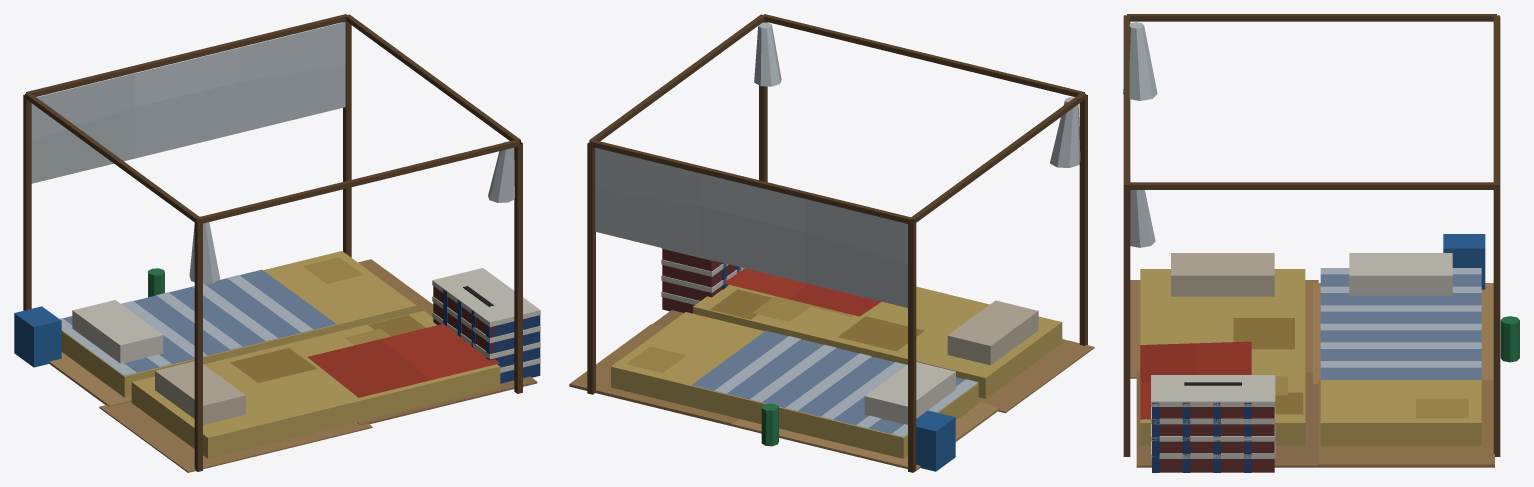
Rendered from ns_camp_bed.glb.
The picture shows the model from 3 angles, left to right: view 1: azimuth 30°, elevation 25°; view 2: azimuth 150°, elevation 25°; view 3: azimuth 270°, elevation 25°; orthographic projection. The views are drawn at different scales.
Visible parts, largest first — view 1: ns_camp_bed; view 2: ns_camp_bed; view 3: ns_camp_bed.
Boxes of the visible parts, left/top/right/bottom form: ns_camp_bed: left=14, top=14, right=540, bottom=472; ns_camp_bed: left=569, top=14, right=1094, bottom=472; ns_camp_bed: left=1123, top=14, right=1519, bottom=472.
Size of the model in its own units: 2.42 by 1.57 by 2.07.
